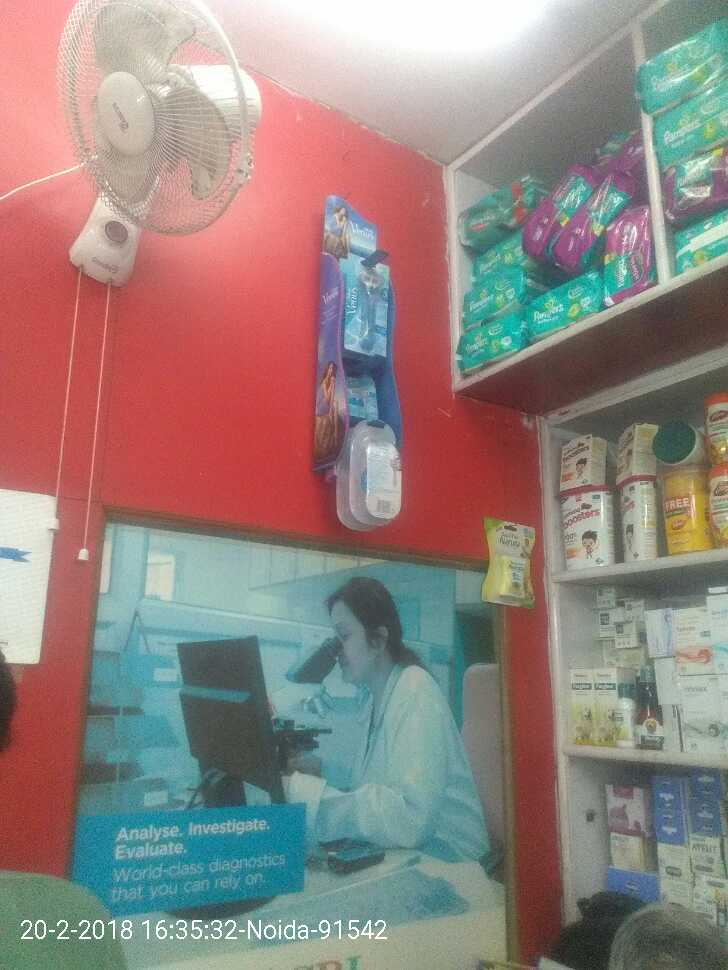beauty: (346, 253, 388, 354), (339, 371, 376, 420)
pharmacy: (451, 174, 540, 234), (526, 274, 603, 340), (599, 208, 656, 297), (455, 316, 518, 372)
